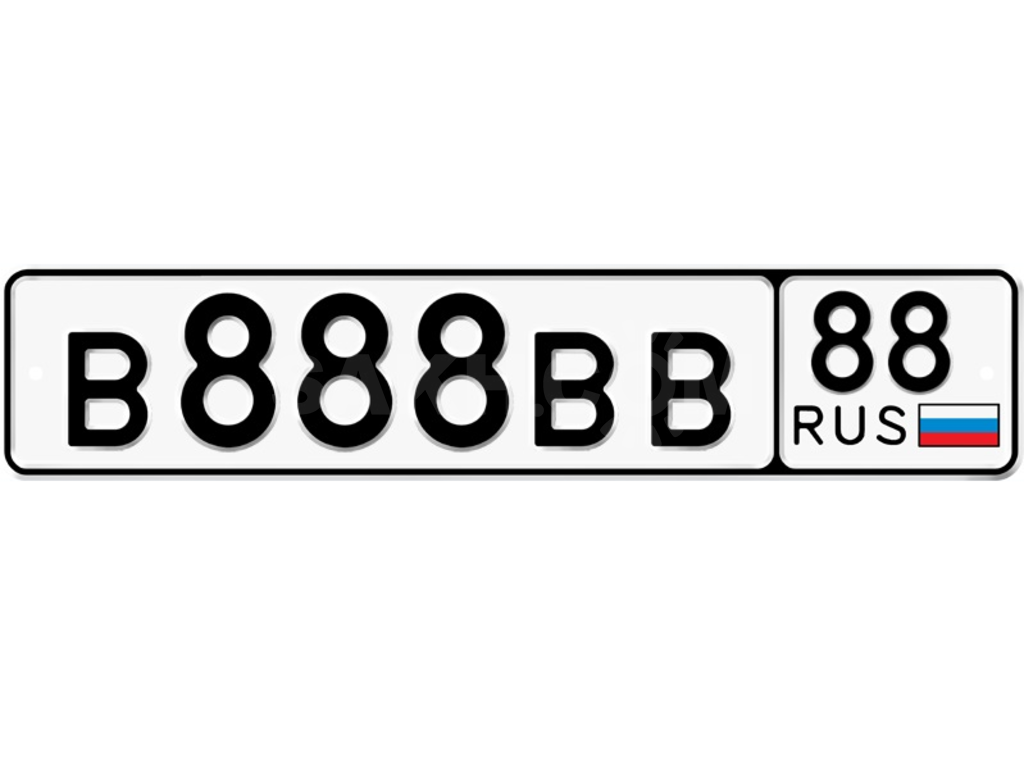number_plate: (0, 278, 1016, 481)
